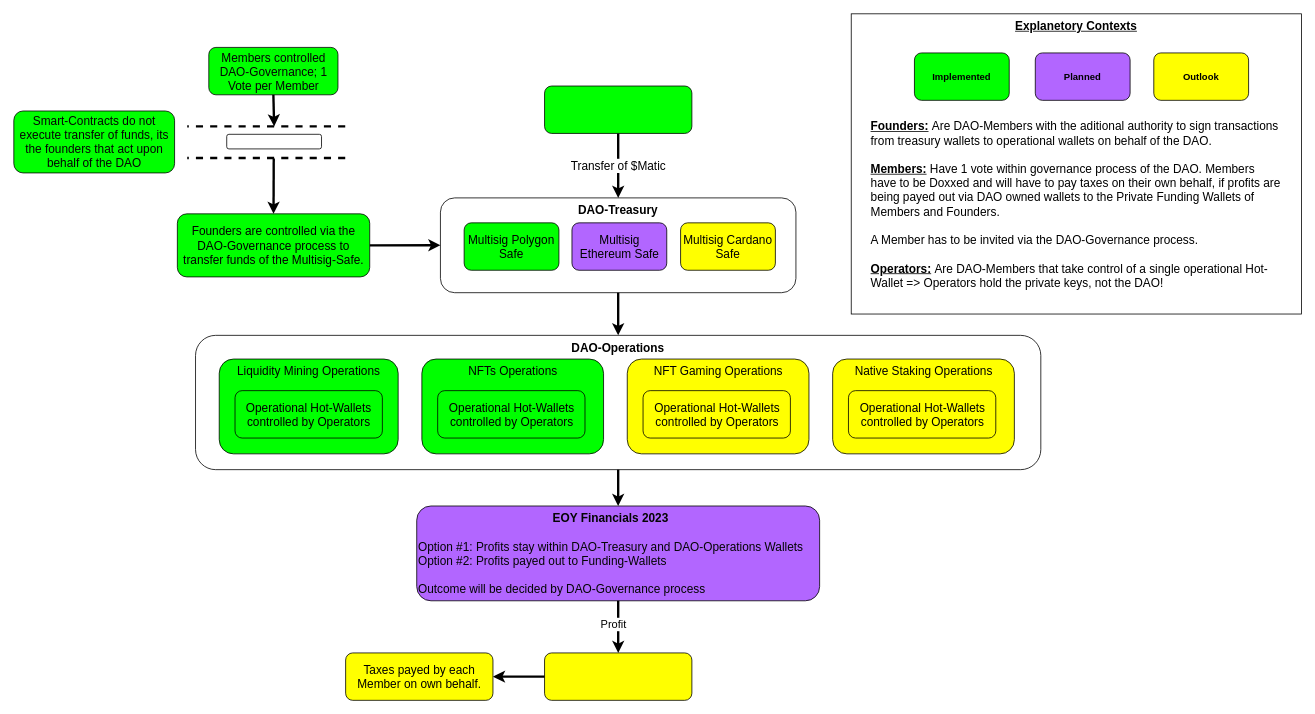
Some shapes in this 1315 by 714 pixel diagram are drawn without their labels. The shapes that lost their labels are listed below. From the top down, each one's centre as x and y in pixels, then its label:
At point 618,109: "Doxxed Private Funding Wallets of Members and Founders".
At point 274,141: "Airgaped Trust".
At point 618,676: "Doxxed Private Funding Wallet of Members and Founders".
